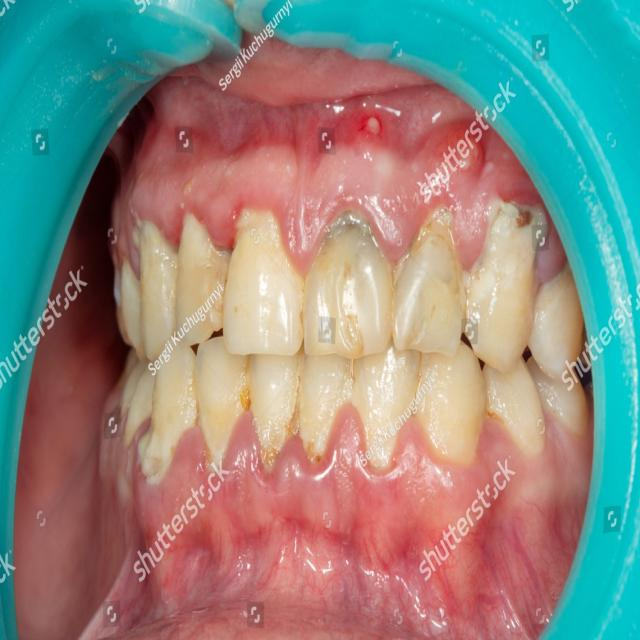abscess: (338, 102, 410, 158)
